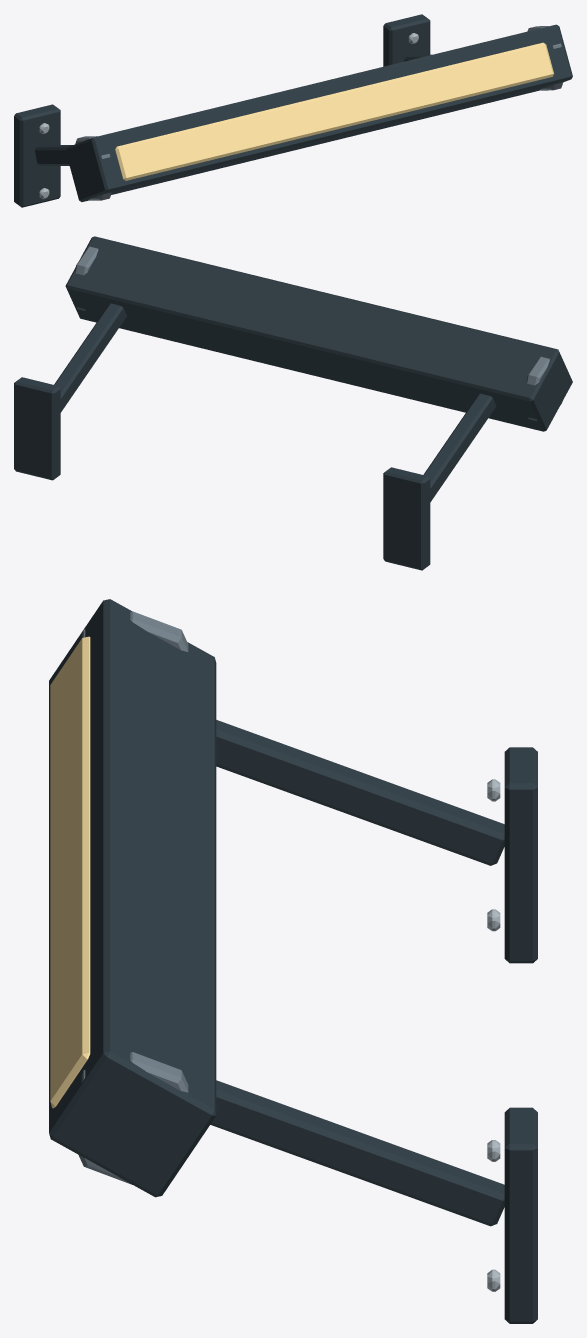
Rendered from b18_angled_awning_wash_light.glb.
3 views of the same model, one above another, from view 1: azimuth 30°, elevation 25°; view 2: azimuth 150°, elevation 25°; view 3: azimuth 270°, elevation 25° (orthographic). The views are drawn at different scales.
Visible parts, largest first — view 1: b18_angled_awning_wash_light; view 2: b18_angled_awning_wash_light; view 3: b18_angled_awning_wash_light.
Boxes of the visible parts, bbox=[...] form: b18_angled_awning_wash_light: bbox=[14, 14, 572, 207]; b18_angled_awning_wash_light: bbox=[14, 236, 572, 570]; b18_angled_awning_wash_light: bbox=[49, 599, 537, 1323].
Size of the model in its own units: 1.14 by 0.35 by 0.5158.
